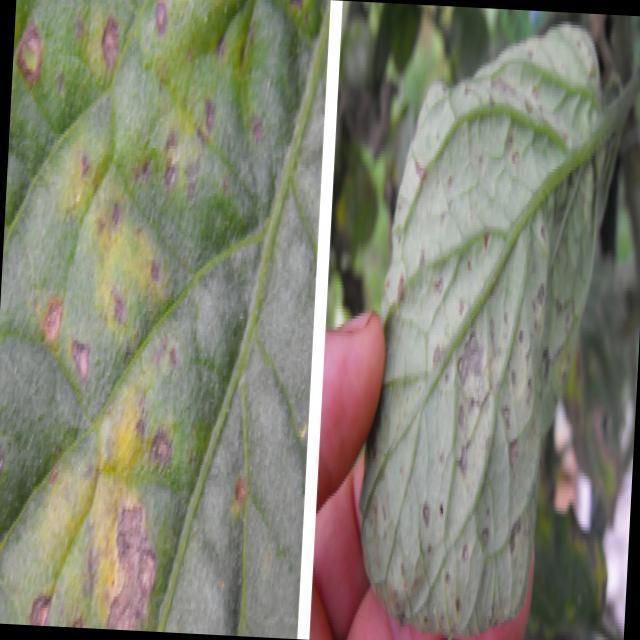Septoria: (378, 97, 584, 638)
